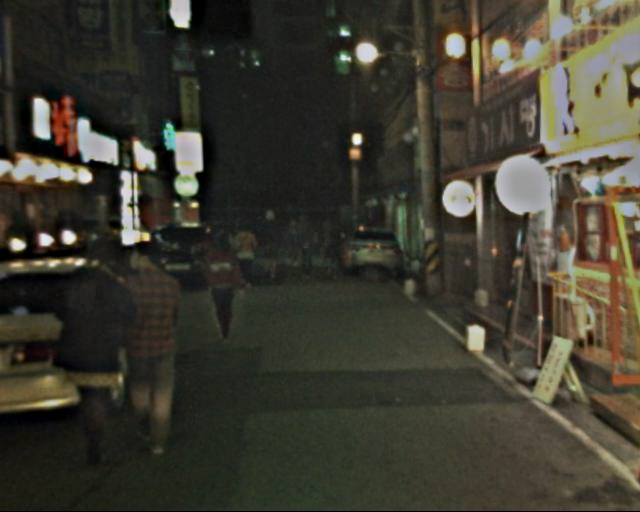person: (113, 235, 192, 465), (53, 231, 127, 471), (200, 222, 248, 348), (230, 216, 264, 292), (255, 206, 286, 284), (292, 211, 317, 283), (318, 219, 343, 286)
